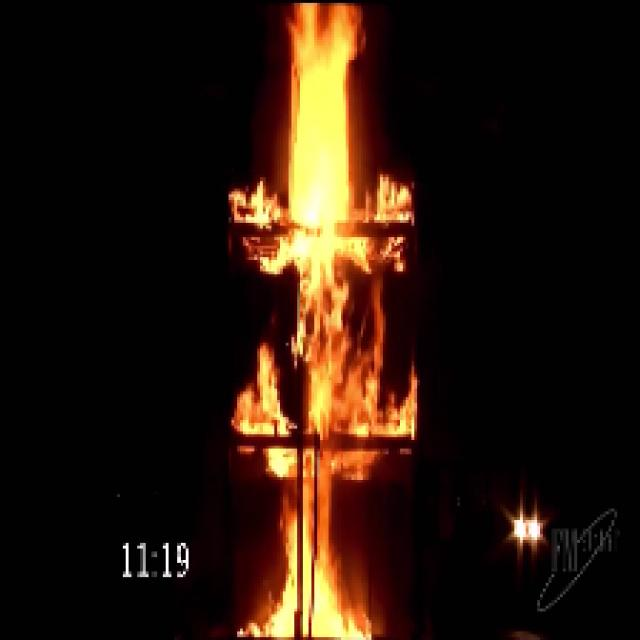fire: (245, 9, 376, 630)
